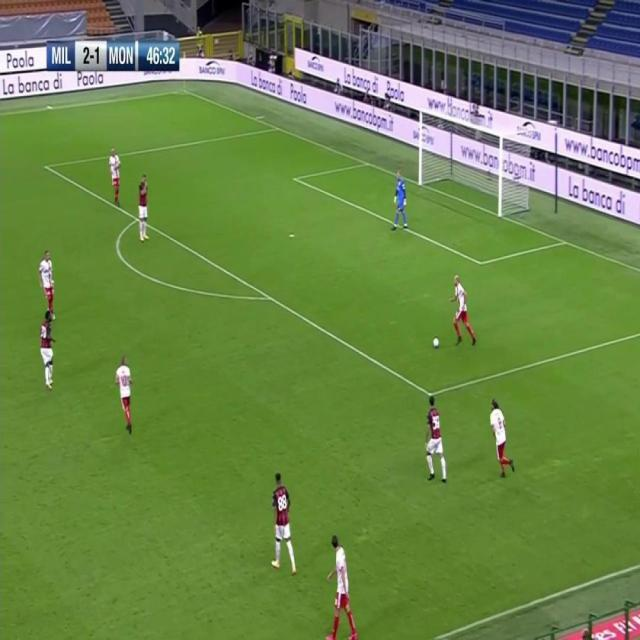ball: (432, 335, 441, 350)
goalkeeper: (391, 169, 410, 233)
player: (326, 530, 357, 640), (270, 471, 298, 578), (424, 393, 449, 484), (489, 399, 517, 477), (449, 273, 478, 347), (39, 308, 58, 394), (116, 354, 135, 434), (38, 248, 57, 311), (136, 171, 150, 244), (109, 145, 123, 209)
